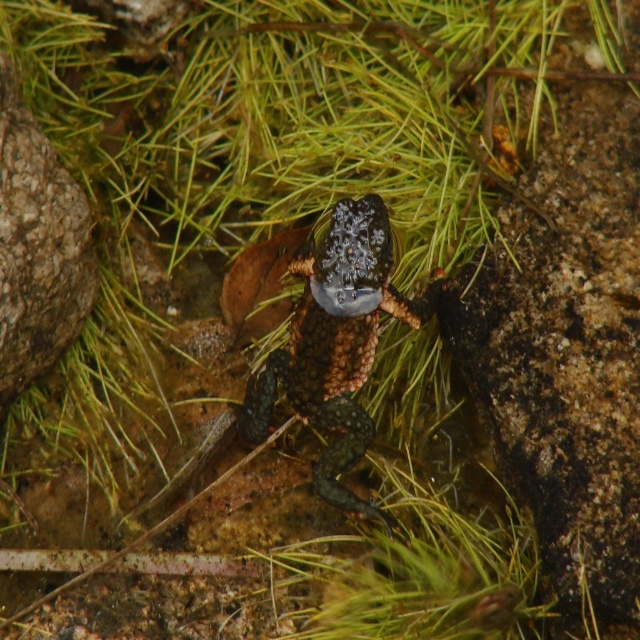Frog: (223, 191, 462, 550)
